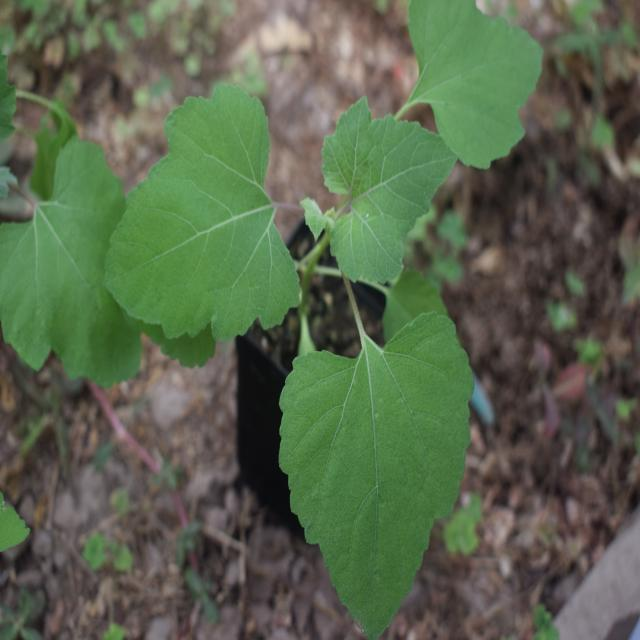cocklebur: (123, 12, 528, 591)
